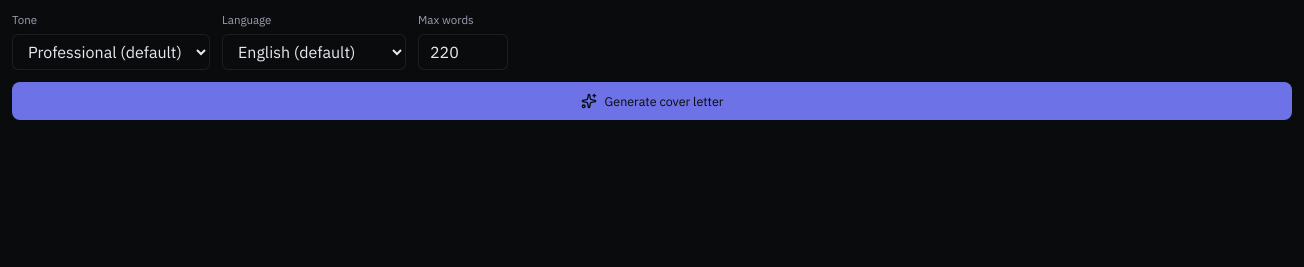
Test: CoverLetterPanel › drops a letter when a fresh gap analysis retargets the same pasted job
Click the button "Generate cover letter": (652, 101) [12,82,1292,120]
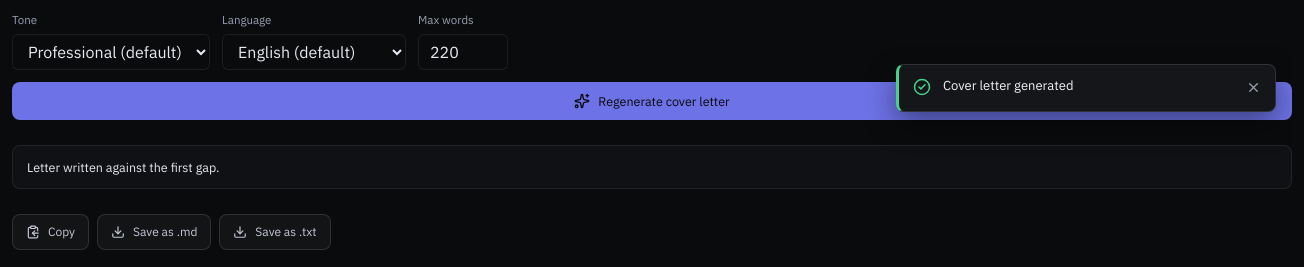
Expected: the text "Letter written against the first gap." is shown, [12,144,1292,189]
